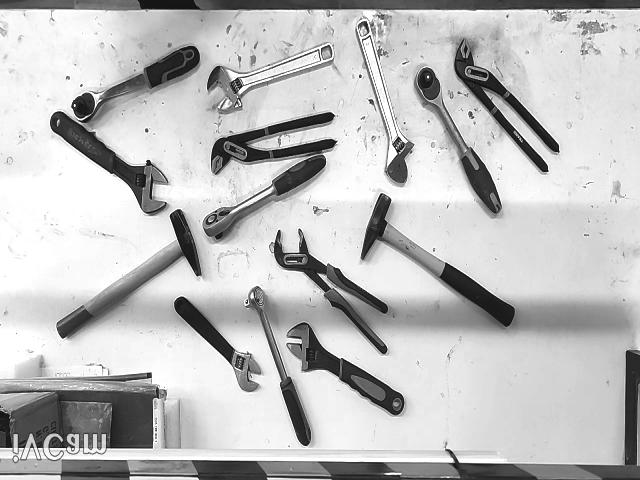Adjustable spanner: (51, 112, 169, 215), (285, 322, 404, 415), (356, 19, 414, 187), (208, 43, 334, 115), (175, 297, 262, 392)
Gas wrench: (270, 230, 388, 353), (454, 40, 559, 173), (211, 114, 336, 175)
Hammer: (361, 193, 514, 327), (58, 210, 201, 338)
Ratchet: (416, 68, 501, 215), (202, 155, 326, 240), (245, 288, 311, 445), (72, 48, 200, 123)
